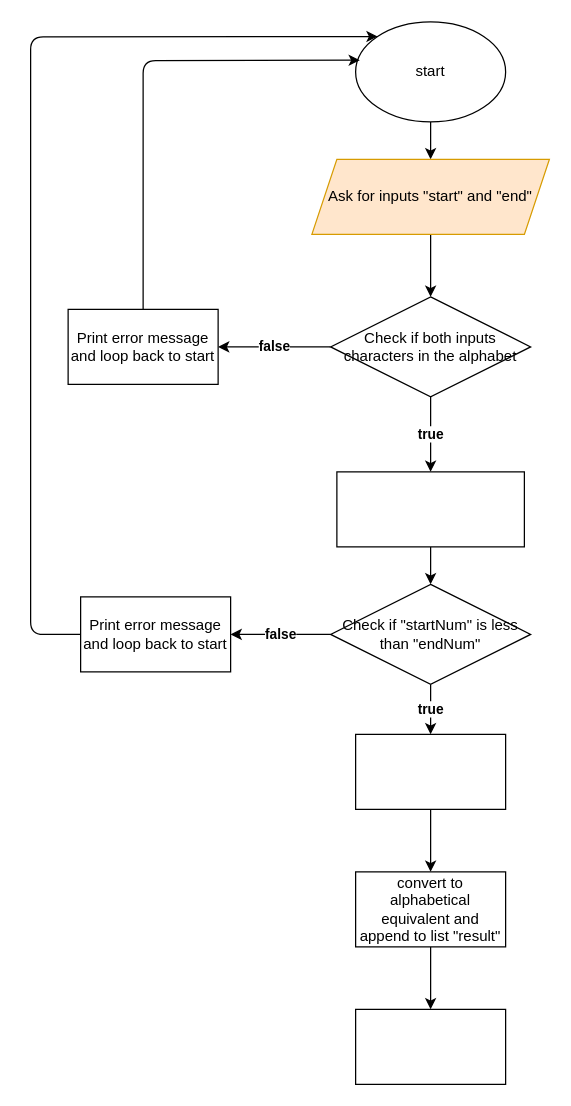
This 571x1106 diagram has some shape labels left out. The shapes that lost their labels are listed below. From the top down, each one's centre as x and y in pixels, then its label:
the point at 430,509: Convert "start" and "end" to unicode equivalents "startNum" and "endNum"
the point at 430,771: find numbers in range startNum—endNum
the point at 430,1046: print "result"
